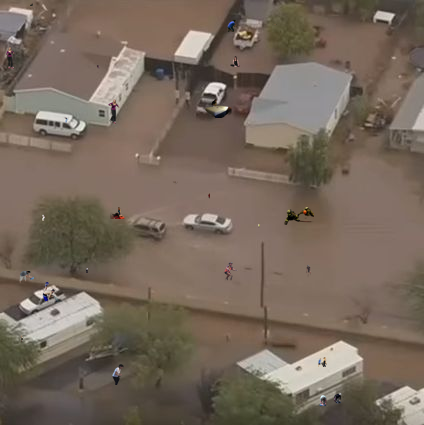Human: (35, 282, 62, 302), (284, 207, 314, 225), (205, 99, 232, 118), (108, 99, 120, 124), (319, 393, 342, 406), (224, 262, 238, 281), (112, 364, 124, 385), (6, 47, 15, 69), (19, 271, 34, 284), (110, 207, 125, 219), (173, 87, 180, 106), (184, 88, 191, 107), (227, 19, 237, 32), (42, 214, 56, 222), (230, 56, 240, 67), (318, 357, 327, 367), (306, 265, 311, 278), (170, 181, 178, 187), (20, 335, 24, 342), (64, 117, 68, 123), (208, 193, 210, 199), (97, 65, 100, 69), (86, 268, 88, 273), (258, 223, 260, 228), (312, 276, 314, 281), (273, 23, 278, 25), (30, 3, 33, 6)
